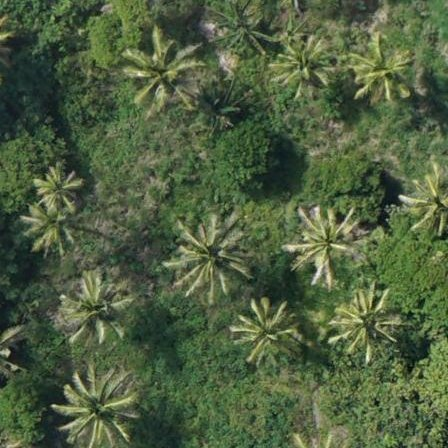palm_tree: (59, 370, 135, 444), (171, 217, 243, 288), (130, 37, 202, 106), (289, 207, 359, 277), (61, 276, 124, 338), (233, 297, 295, 359), (279, 31, 336, 93), (337, 291, 394, 349), (354, 41, 410, 97), (20, 207, 74, 257), (36, 166, 84, 210)
